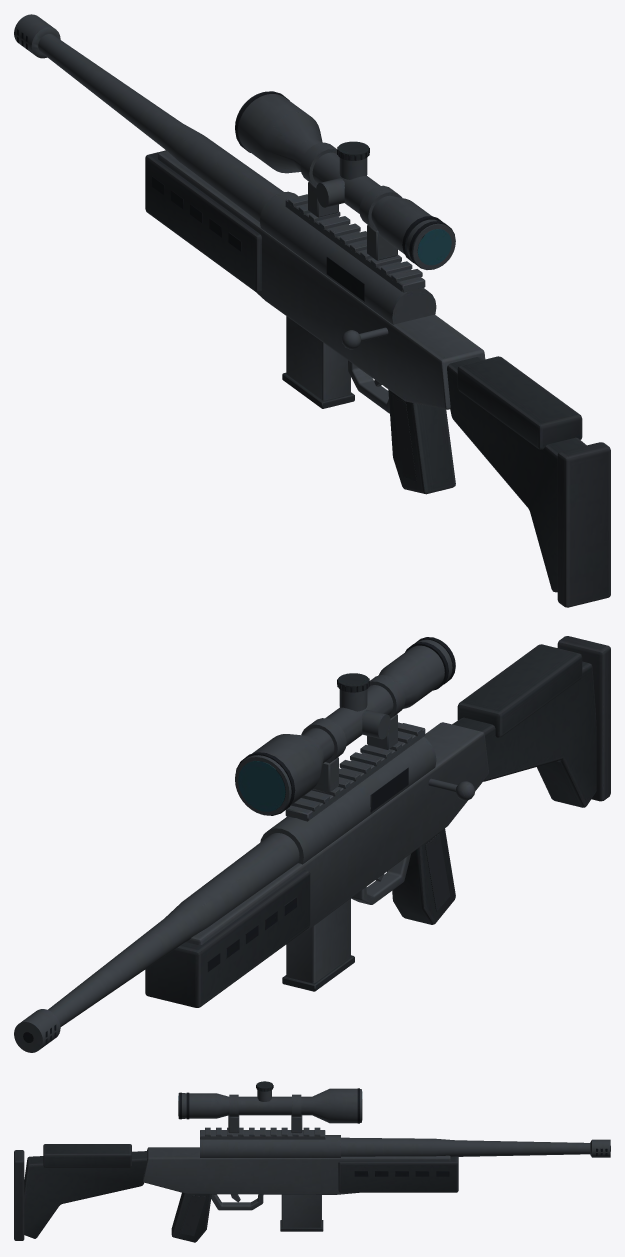
Rendered from sniper.glb.
The picture shows the model from 3 angles, top to bottom: view 1: azimuth 30°, elevation 25°; view 2: azimuth 150°, elevation 25°; view 3: azimuth 270°, elevation 25°; orthographic projection. The views are drawn at different scales.
Visible parts, largest first — view 1: Rifle, Luneta, Carregador; view 2: Rifle, Luneta, Carregador; view 3: Rifle, Luneta, Carregador.
Part boxes in pixels (bbox=[...]): Rifle: bbox=[14, 14, 610, 607]; Luneta: bbox=[235, 91, 455, 269]; Carregador: bbox=[282, 316, 354, 408]; Rifle: bbox=[14, 636, 610, 1052]; Luneta: bbox=[235, 637, 455, 815]; Carregador: bbox=[282, 898, 354, 991]; Rifle: bbox=[14, 1127, 610, 1242]; Luneta: bbox=[178, 1081, 362, 1133]; Carregador: bbox=[280, 1194, 323, 1231].
Size of the model in its own units: 0.1117 by 0.3276 by 1.15.
Materials: 1 (1 with a texture image).
